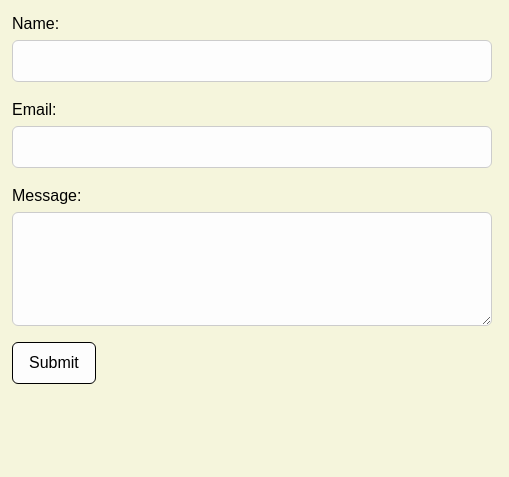
Test: ContactForm › shows validation errors and no confirmation when submitted empty
This screenshot has width=509, height=477.
Click the button "Submit". click: (54,363)
box: [12,342,96,384]
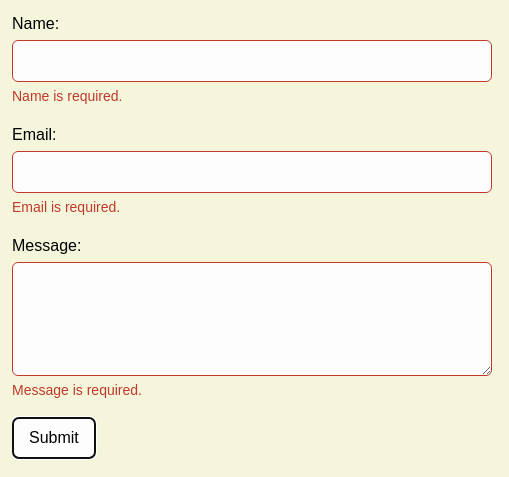
Now the text "Name is required." is shown, box [12,88,122,104]
Now the text "Email is required." is shown, box [12,199,120,215]
Now the text "Message is required." is shown, box [12,382,142,398]
